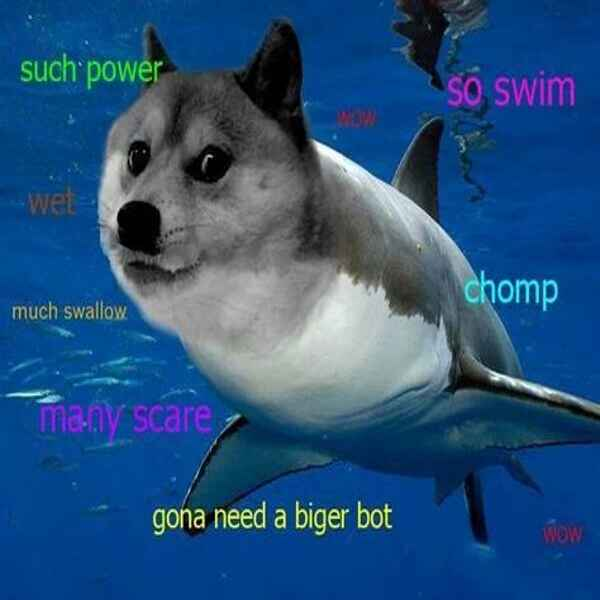doge: (79, 60, 322, 318)
